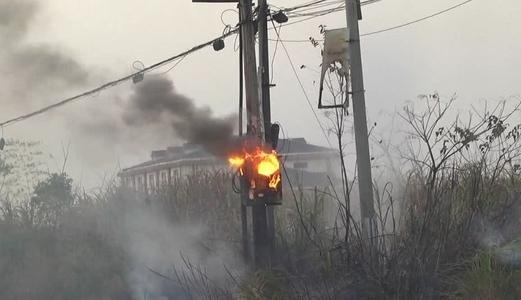fire: (227, 144, 282, 192)
